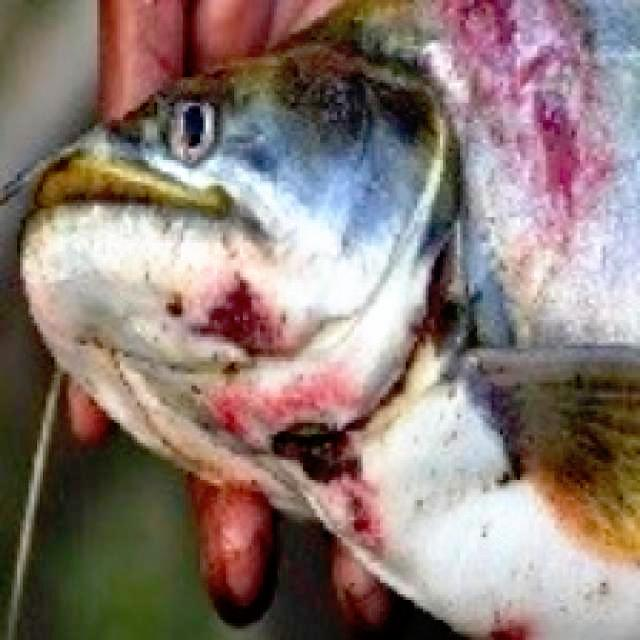Edwardsiella Ictaluri -Bacterial Red Disease-: (20, 0, 639, 639)
